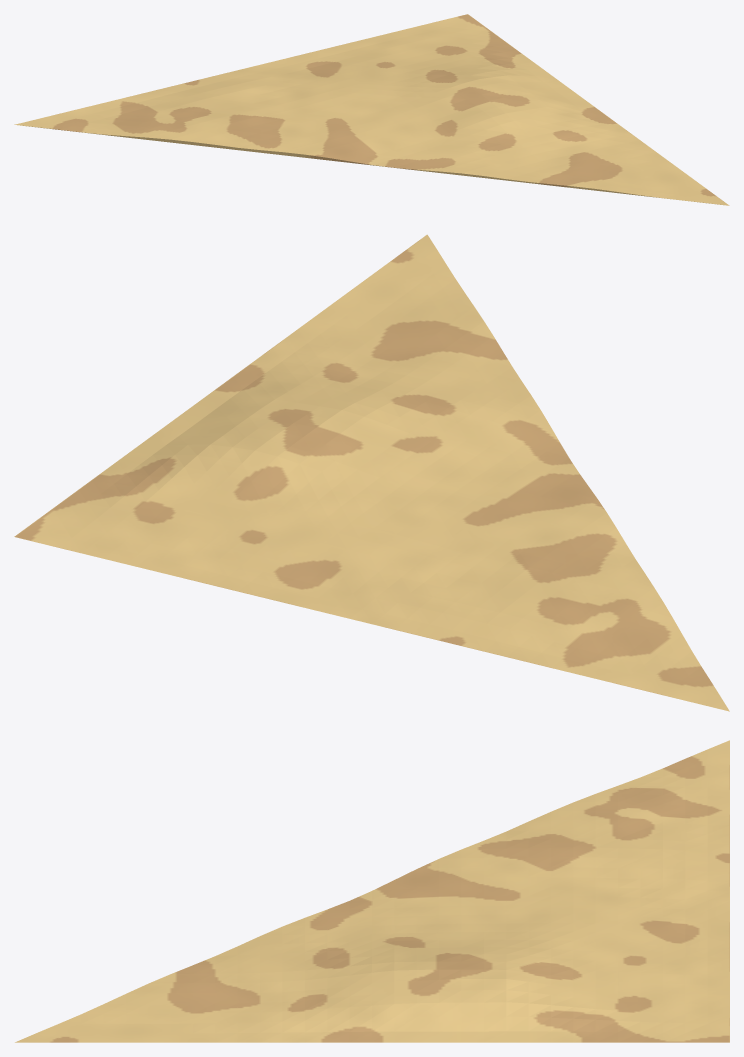
The model's file is Desert_Flat_03_SE.obj.
The picture shows the model from 3 angles, top to bottom: view 1: azimuth 30°, elevation 25°; view 2: azimuth 150°, elevation 25°; view 3: azimuth 270°, elevation 25°; orthographic projection. The views are drawn at different scales.
Bounding box in the file's own units: 10 × 0.2571 × 10.
1 material, 1 textured.
